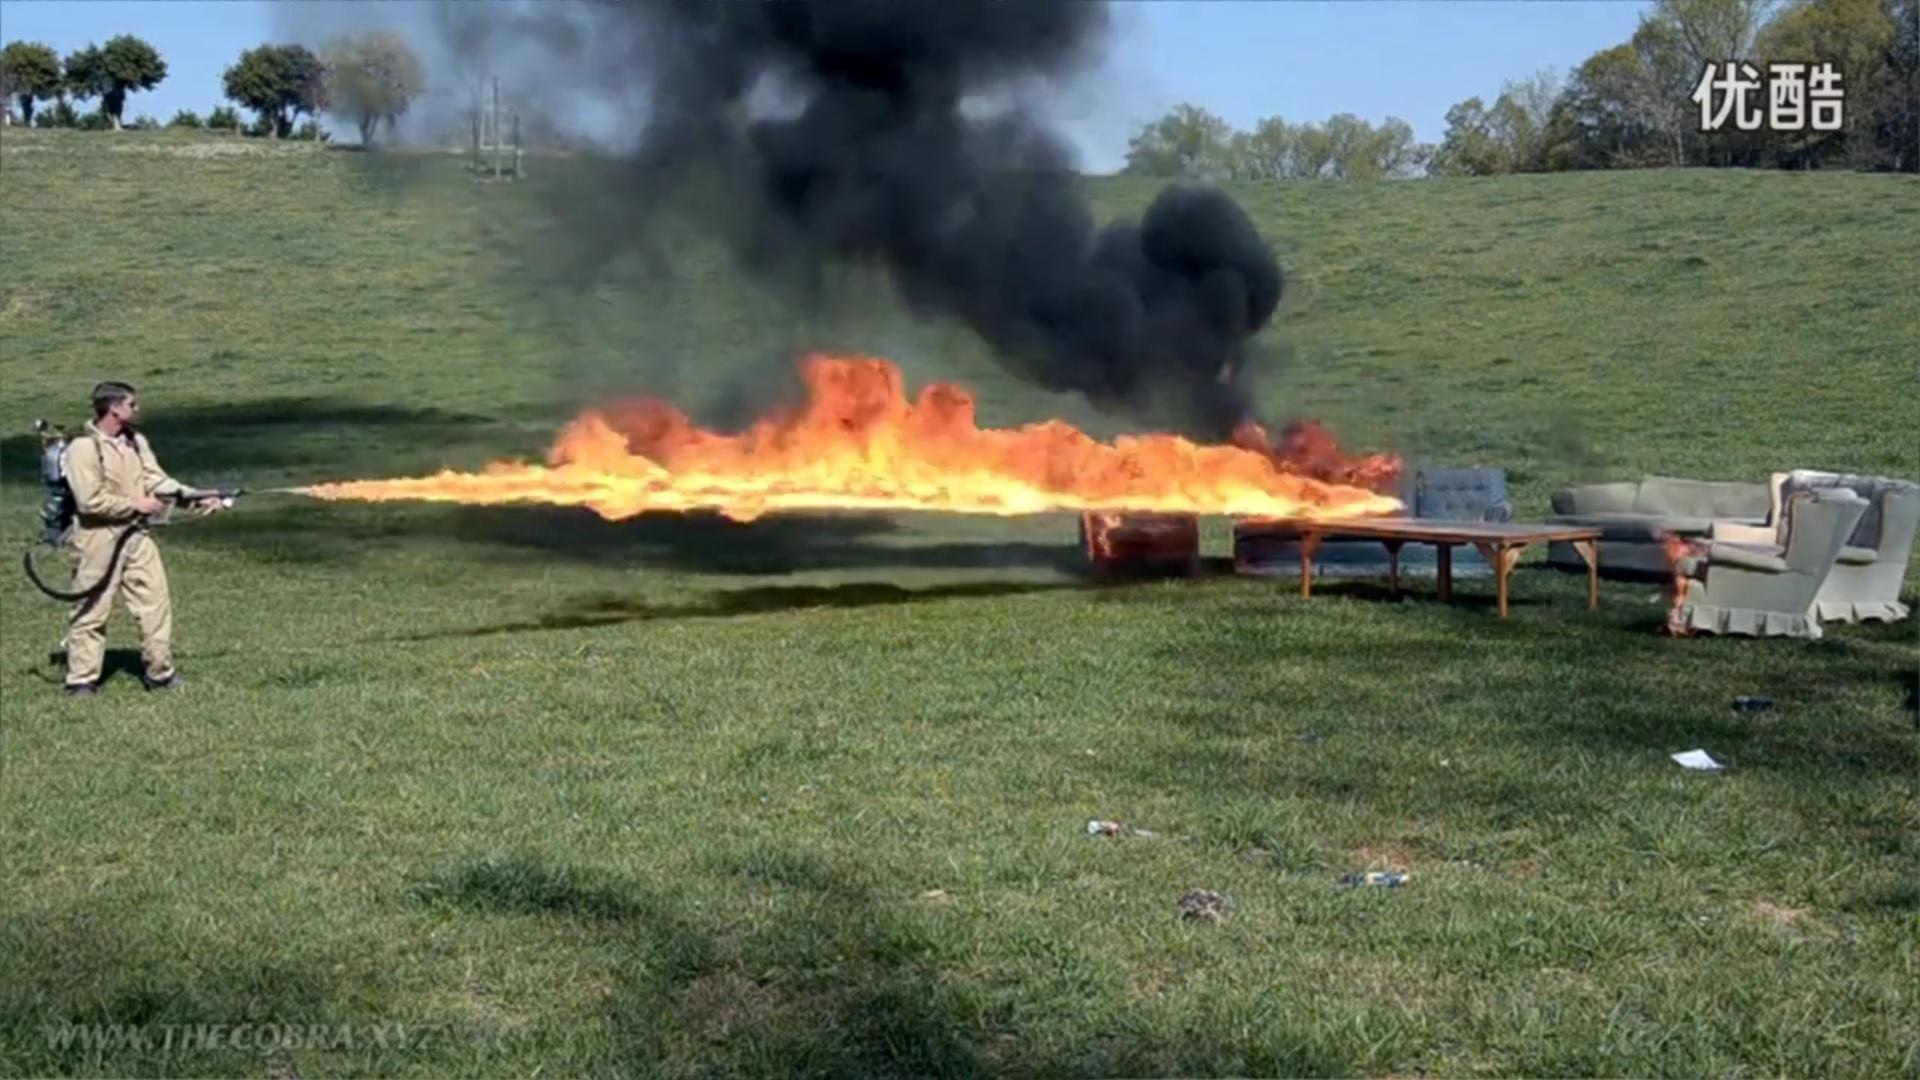fire: (274, 364, 1395, 593)
